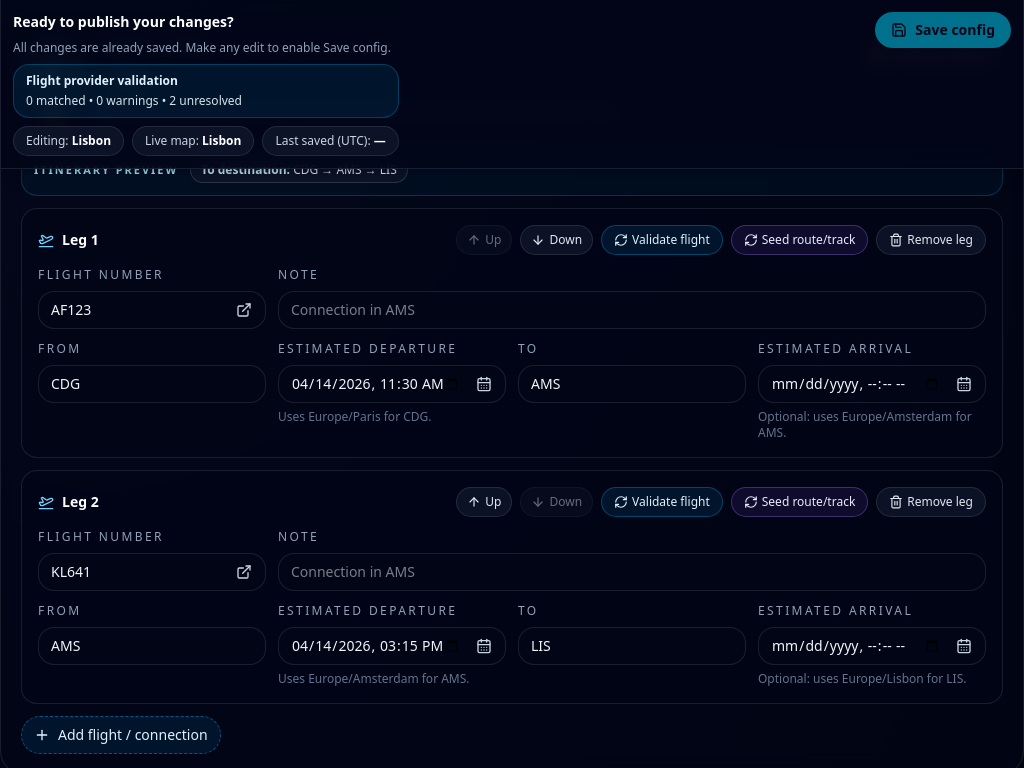
Test: FriendsConfigClient › orders airport suggestions by relevance instead of raw directory order
The image size is (1024, 768).
(page scrolled)
Type "jo" into the field named "from". click: (152, 384)
box: x1=38 y1=365 x2=266 y2=403
(page scrolled)
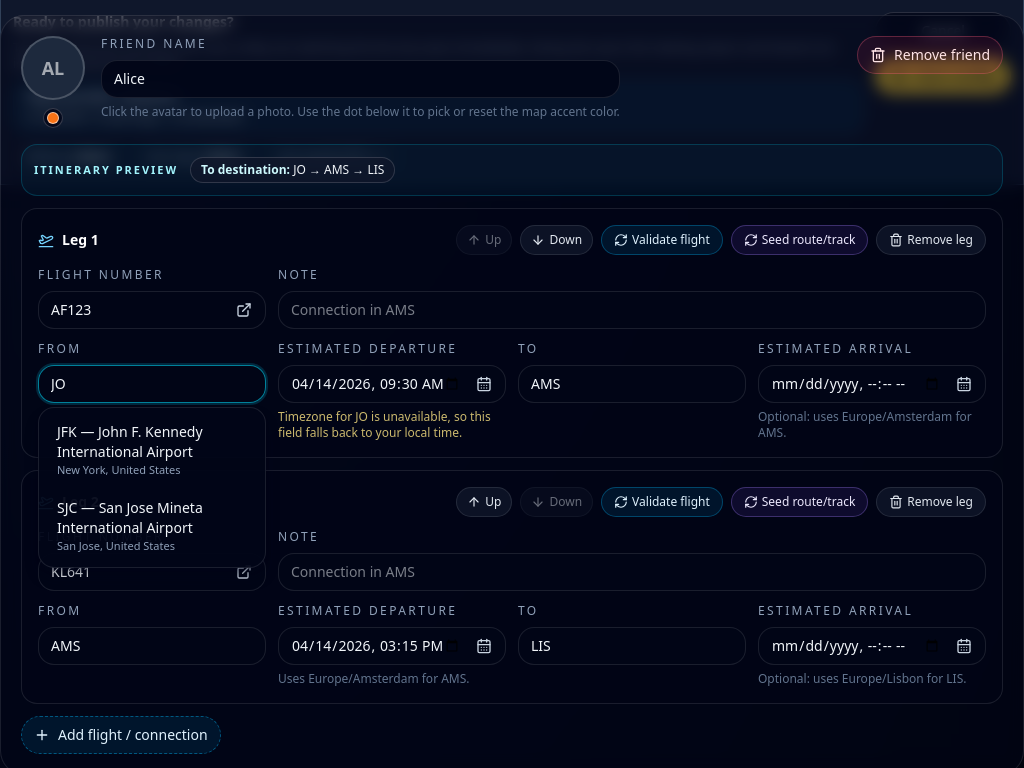
Check: the 1st option shows "JFK — John F. Kennedy International Airport", box x1=57 y1=422 x2=203 y2=477
